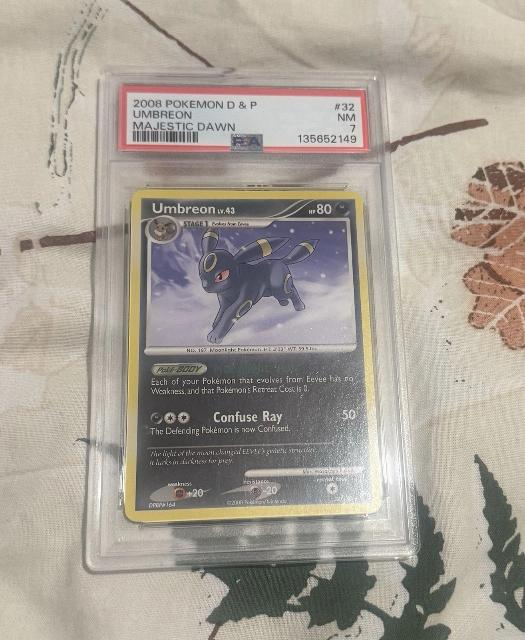Card: (119, 188, 387, 529)
Name: (149, 197, 218, 218)
